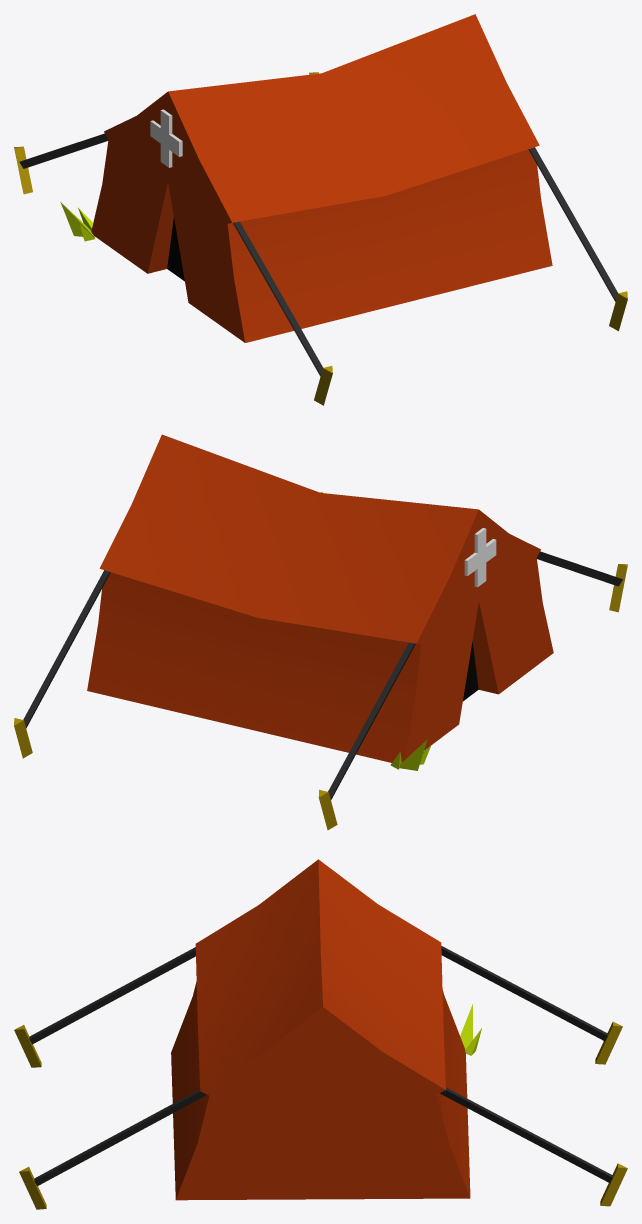
File: tent_1.fbx
3 views of the same model, one above another, from view 1: azimuth 30°, elevation 25°; view 2: azimuth 150°, elevation 25°; view 3: azimuth 270°, elevation 25° (orthographic). The views are drawn at different scales.
Parts seen in each view (by area): view 1: tent_1; view 2: tent_1; view 3: tent_1.
Part boxes in pixels (x1,y1,x2,y2): tent_1: [14, 14, 627, 405]; tent_1: [14, 434, 627, 829]; tent_1: [14, 859, 627, 1209].
Size of the model in its own units: 520 by 305 by 832.
